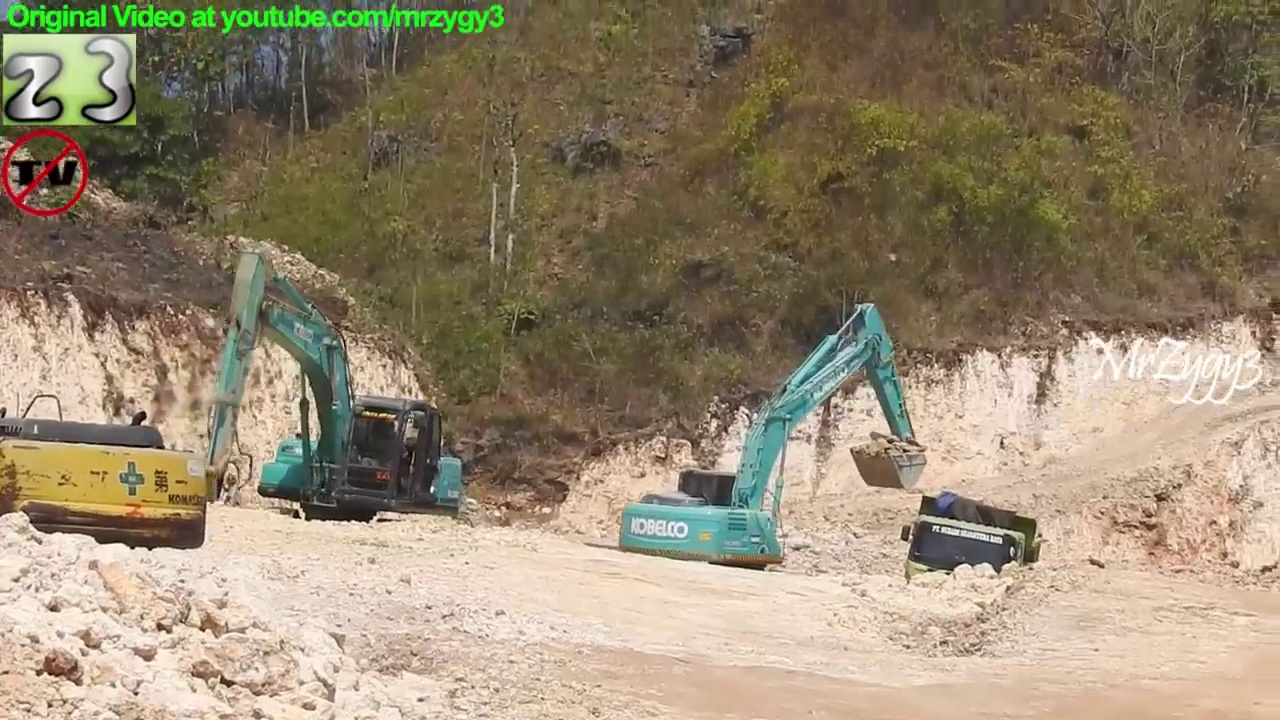excavator: (162, 244, 467, 575), (609, 298, 930, 603), (1, 384, 216, 555)
truck: (898, 488, 1051, 638)
